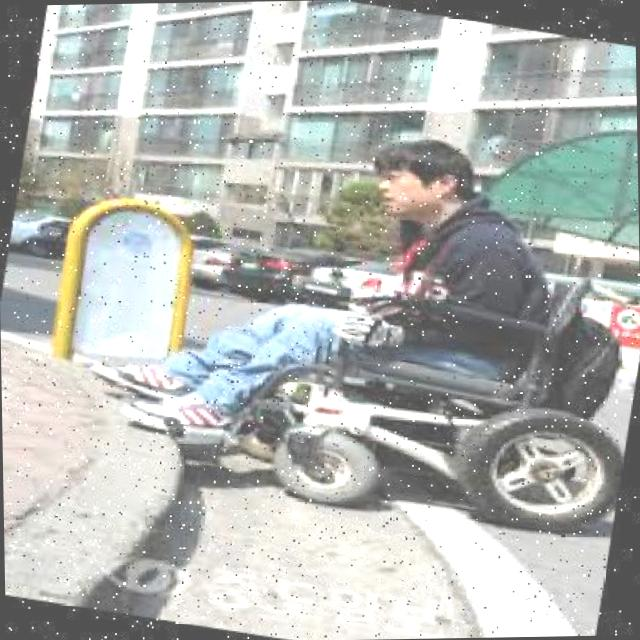Person: (73, 85, 640, 558)
